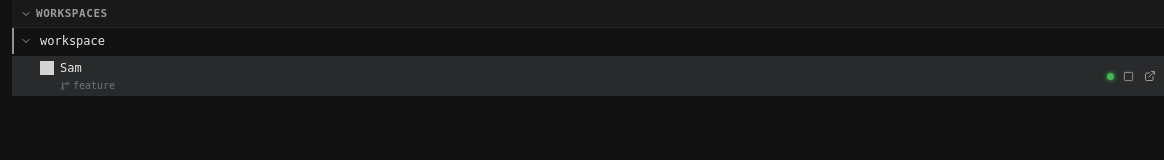
Test: checkout-aware sidebar service controls › does not navigate on failed readiness
The image size is (1164, 160).
Click the button named "Open Dev Server in Browser".
click(1150, 76)  # box [1140,66,1160,86]
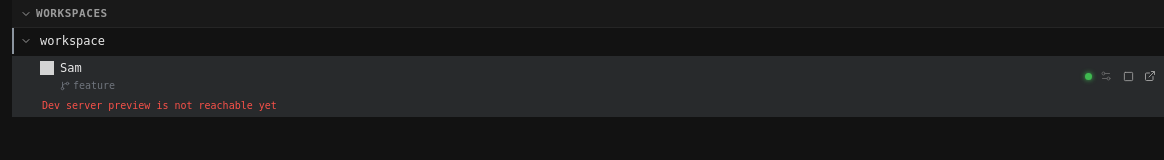
expect the message shows "not reachable": met, box [42,100,277,111]
